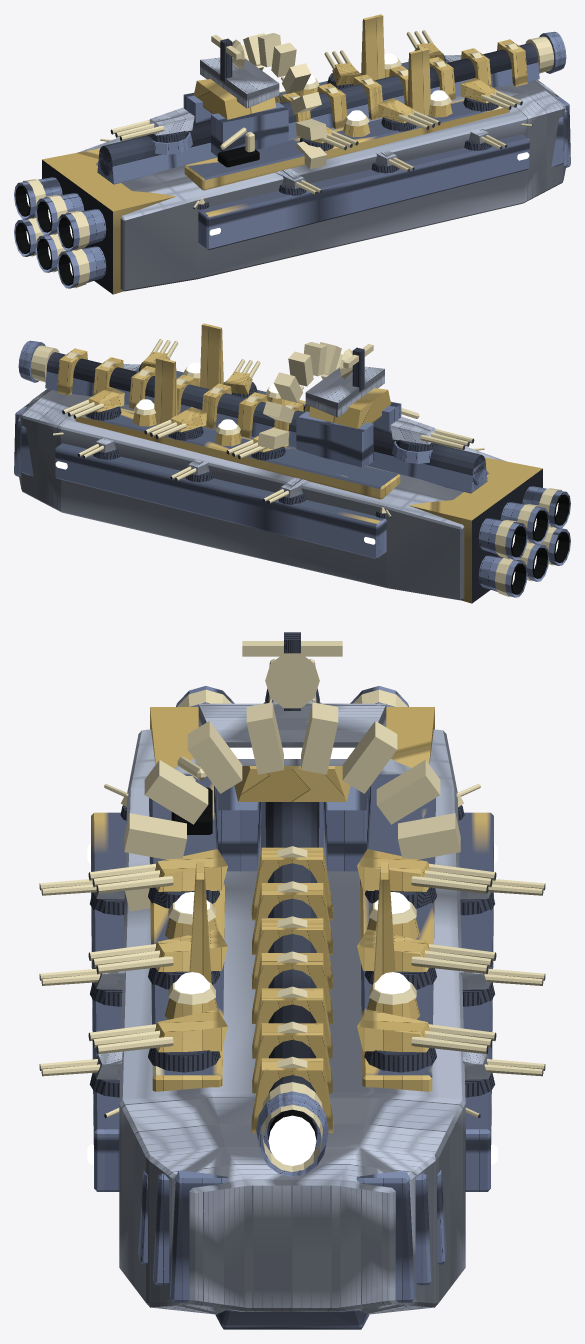
Rendered from battleship.glb.
3 renders of one model, top to bottom at view 1: azimuth 30°, elevation 25°; view 2: azimuth 150°, elevation 25°; view 3: azimuth 270°, elevation 25°, orthographic. The views are drawn at different scales.
Visible parts, largest first — view 1: hull_body, weapon_mounts, engine_block, sensor_tower, shield_domes; view 2: hull_body, weapon_mounts, engine_block, sensor_tower, shield_domes; view 3: hull_body, weapon_mounts, sensor_tower, engine_block, shield_domes.
Part boxes in pixels (<box>): hull_body: <box>78,14,570,291</box>; weapon_mounts: <box>97,30,566,209</box>; engine_block: <box>14,148,175,294</box>; sensor_tower: <box>183,35,288,156</box>; shield_domes: <box>295,53,452,137</box>; hull_body: <box>14,323,506,600</box>; weapon_mounts: <box>18,339,487,518</box>; engine_block: <box>409,457,570,603</box>; sensor_tower: <box>296,344,401,467</box>; shield_domes: <box>132,362,289,446</box>; hull_body: <box>87,702,497,1329</box>; weapon_mounts: <box>39,658,545,1176</box>; sensor_tower: <box>198,632,386,871</box>; engine_block: <box>150,686,434,767</box>; shield_domes: <box>165,892,419,1019</box>.
Size of the model in its own units: 60 by 22.06 by 25.58.
1 material, 1 textured.
